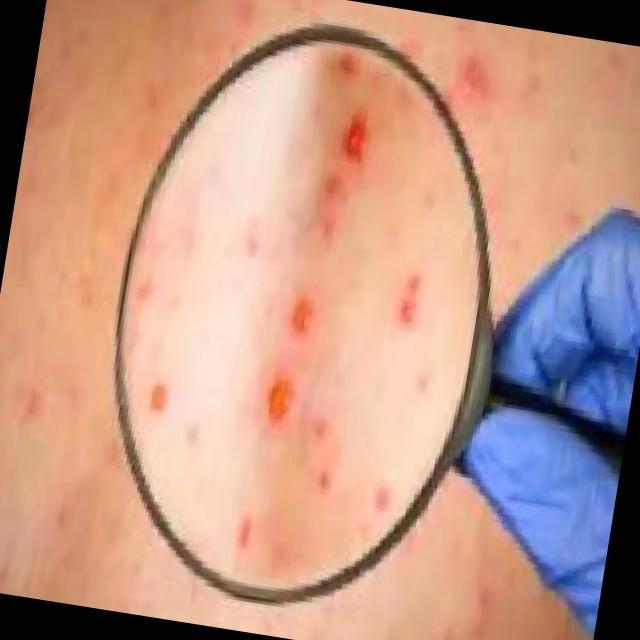Eczema: (149, 59, 424, 564)
